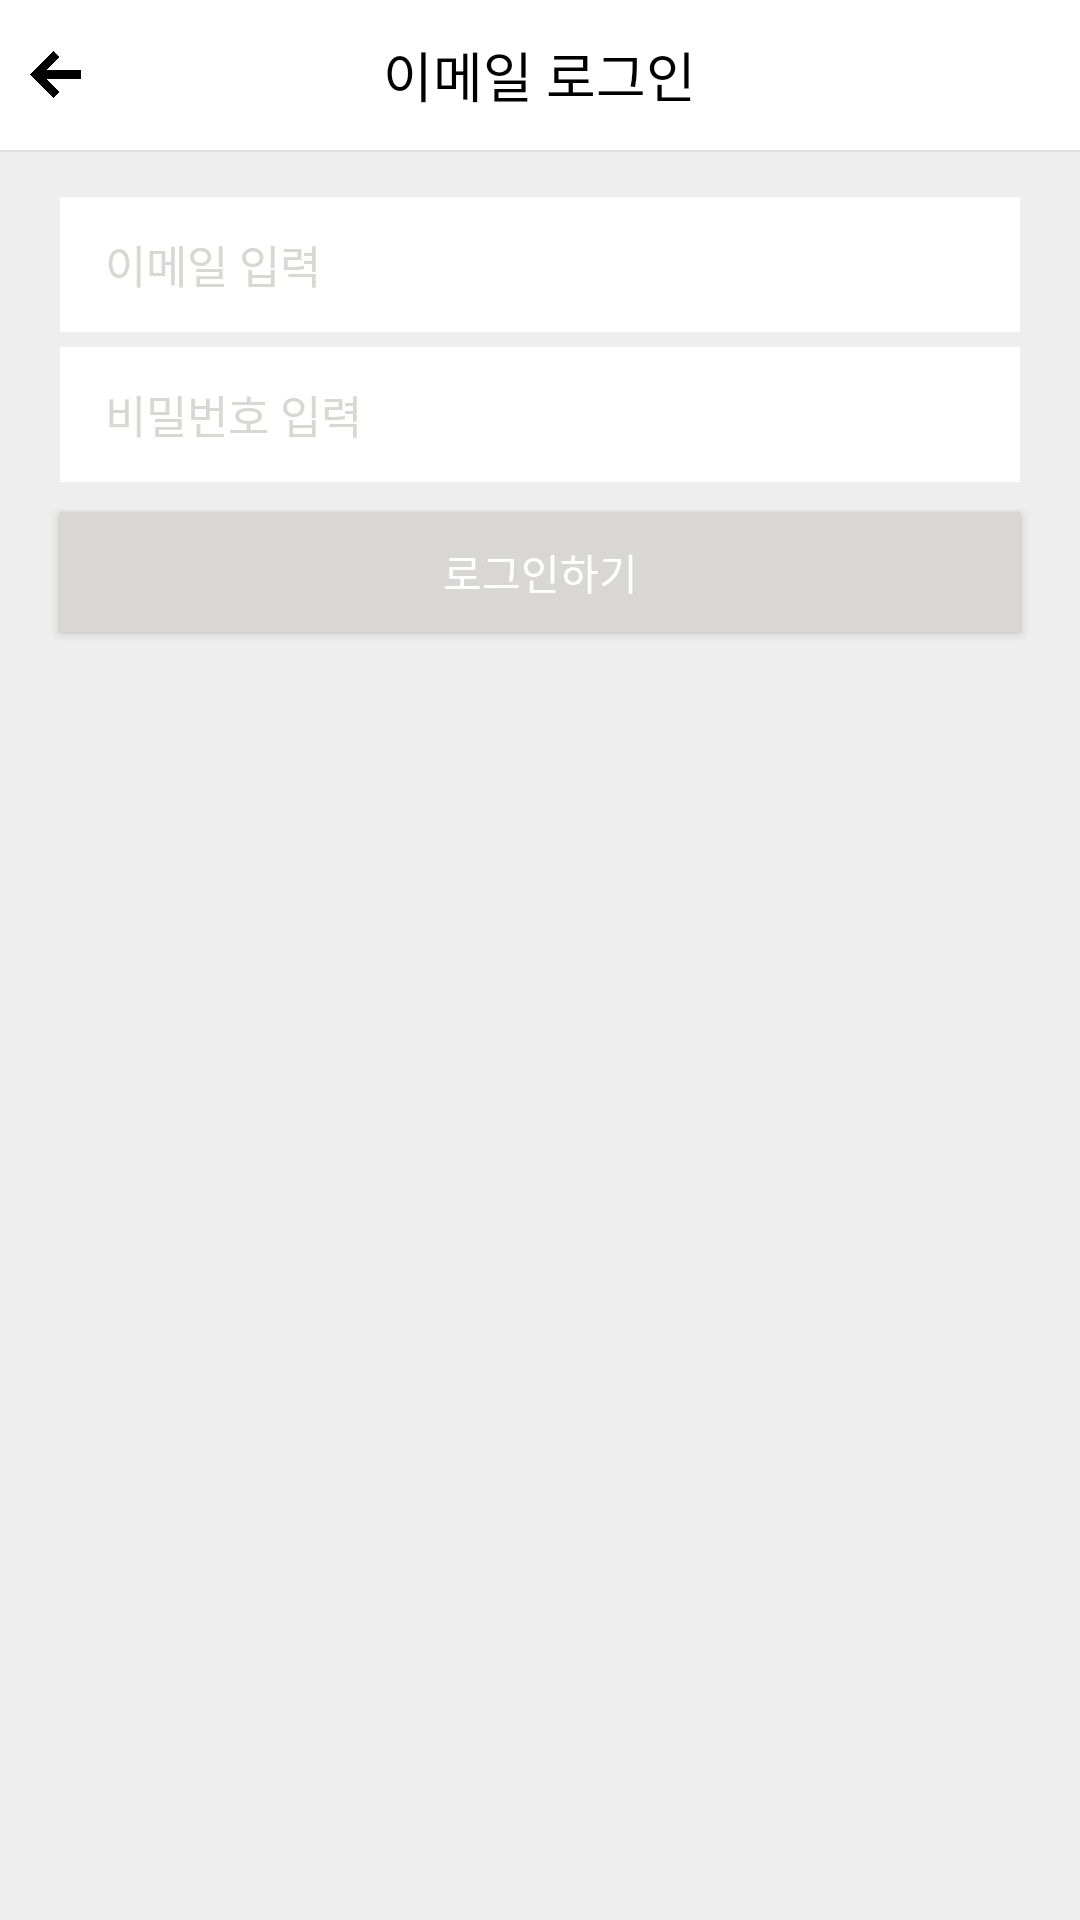

Icon click points for this 1080px x 1920px phone screenshot, format point (x, y):
back: point (55, 74)
